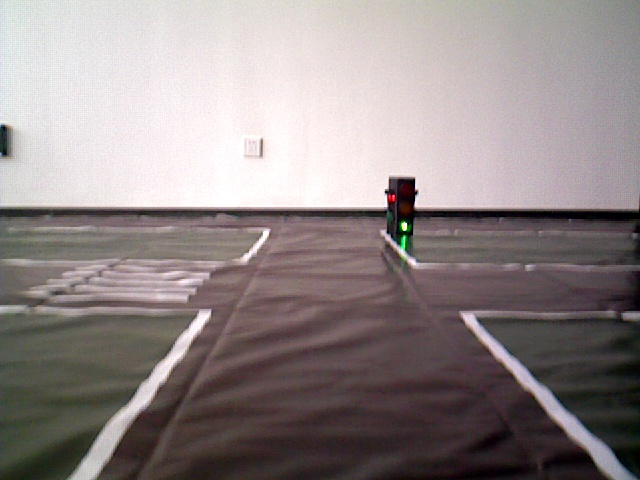green: (390, 177, 412, 233)
